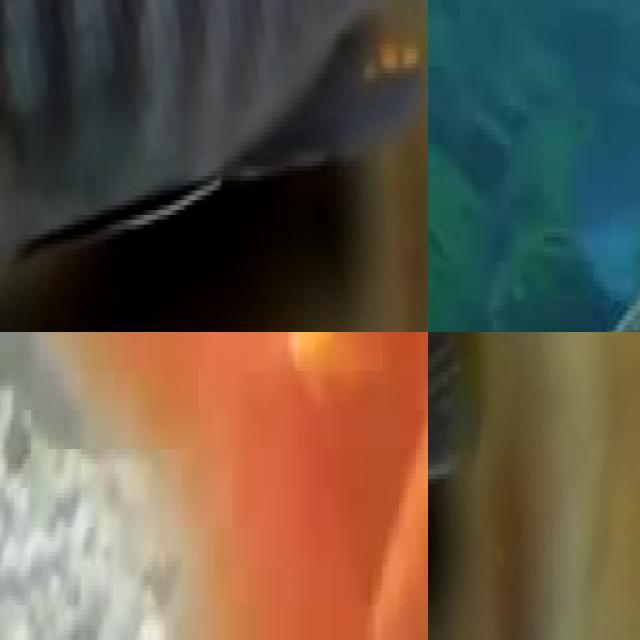fish: (0, 0, 428, 332), (0, 332, 428, 640)
